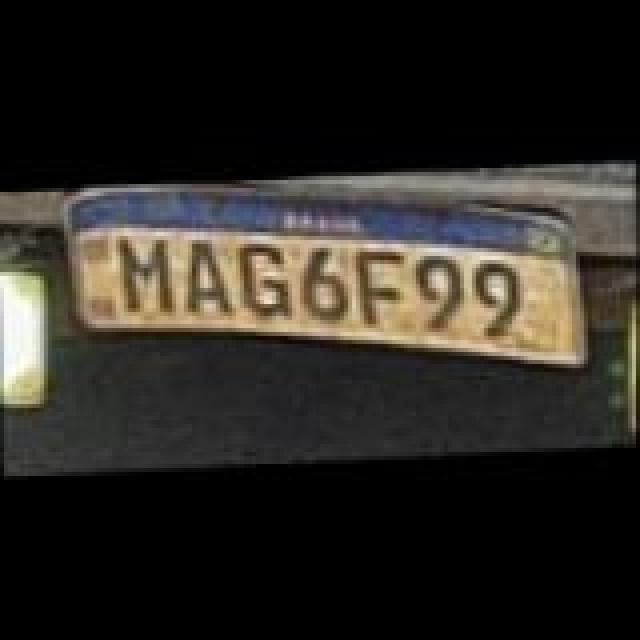6: (290, 240, 350, 320)
9: (412, 252, 472, 328), (470, 256, 526, 336)
A: (176, 236, 232, 312)
F: (348, 244, 412, 328)
G: (228, 234, 292, 314)
M: (116, 230, 180, 314)
